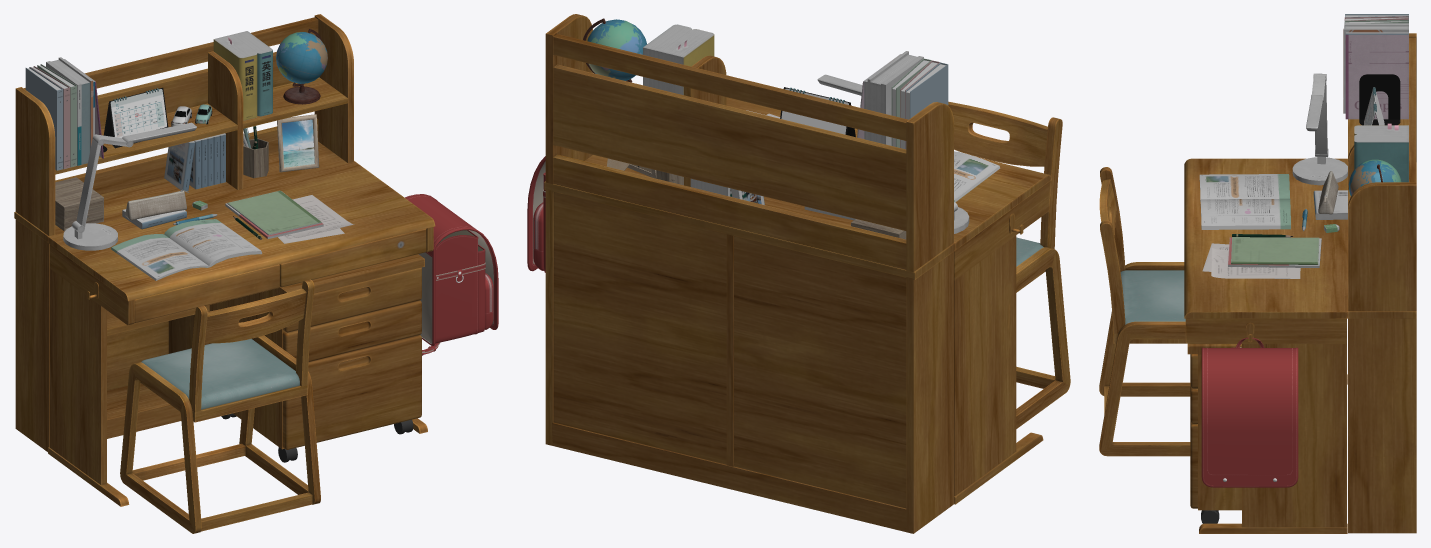
File: Desk.fbx
The picture shows the model from 3 angles, left to right: view 1: azimuth 30°, elevation 25°; view 2: azimuth 150°, elevation 25°; view 3: azimuth 270°, elevation 25°; orthographic projection. The views are drawn at different scales.
Visible parts, largest first — view 1: desk_01_low, desk_06_low, desk_07_low, desk_03_low, chair_02_low, chair_01_low, desk_04_low, desk_02_low, chair_03_low, prop_C_01_low, r_01_low, prop_A_01_low (+14 smaller); view 2: desk_07_low, desk_03_low, desk_01_low, chair_01_low, prop_C_01_low, chair_02_low, prop_C_07_low, prop_C_08_low, prop_A_01_low, r_02_low, prop_C_03_low, r_01_low (+3 smaller); view 3: desk_01_low, desk_07_low, r_02_low, desk_03_low, chair_02_low, prop_C_01_low, prop_A_01_low, prop_A_02_low, chair_03_low, chair_01_low, prop_A_07_low, prop_C_07_low (+9 smaller).
Part boxes in pixels (left/top/right/bottom): desk_01_low: left=48, top=161, right=435, bottom=506; desk_06_low: left=282, top=267, right=421, bottom=449; desk_07_low: left=14, top=141, right=354, bottom=451; desk_03_low: left=15, top=14, right=353, bottom=236; chair_02_low: left=120, top=335, right=320, bottom=533; chair_01_low: left=140, top=279, right=314, bottom=422; desk_04_low: left=55, top=51, right=347, bottom=189; desk_02_low: left=134, top=229, right=426, bottom=322; chair_03_low: left=141, top=338, right=299, bottom=409; prop_C_01_low: left=25, top=57, right=103, bottom=170; r_01_low: left=435, top=230, right=493, bottom=343; prop_A_01_low: left=111, top=219, right=262, bottom=280; desk_07_low: left=544, top=155, right=955, bottom=533; desk_03_low: left=545, top=14, right=953, bottom=271; desk_01_low: left=726, top=97, right=1051, bottom=504; chair_01_low: left=948, top=101, right=1062, bottom=292; prop_C_01_low: left=857, top=51, right=948, bottom=149; chair_02_low: left=1016, top=247, right=1070, bottom=428; prop_C_07_low: left=643, top=24, right=714, bottom=95; prop_C_08_low: left=587, top=19, right=646, bottom=80; prop_A_01_low: left=954, top=151, right=1000, bottom=202; r_02_low: left=527, top=156, right=545, bottom=271; prop_C_03_low: left=780, top=87, right=855, bottom=137; r_01_low: left=533, top=172, right=545, bottom=272; desk_01_low: left=1184, top=158, right=1347, bottom=533; desk_07_low: left=1348, top=162, right=1416, bottom=533; r_02_low: left=1201, top=347, right=1298, bottom=487; desk_03_low: left=1348, top=33, right=1416, bottom=311; chair_02_low: left=1099, top=262, right=1190, bottom=456; prop_C_01_low: left=1343, top=14, right=1408, bottom=119; prop_A_01_low: left=1199, top=174, right=1290, bottom=229; prop_A_02_low: left=1202, top=237, right=1321, bottom=278; chair_03_low: left=1120, top=270, right=1185, bottom=324; chair_01_low: left=1099, top=167, right=1186, bottom=343; prop_A_07_low: left=1292, top=73, right=1347, bottom=185; prop_C_07_low: left=1354, top=123, right=1408, bottom=182.
Bounding box in the file's own units: 125 × 113 × 87.1.
